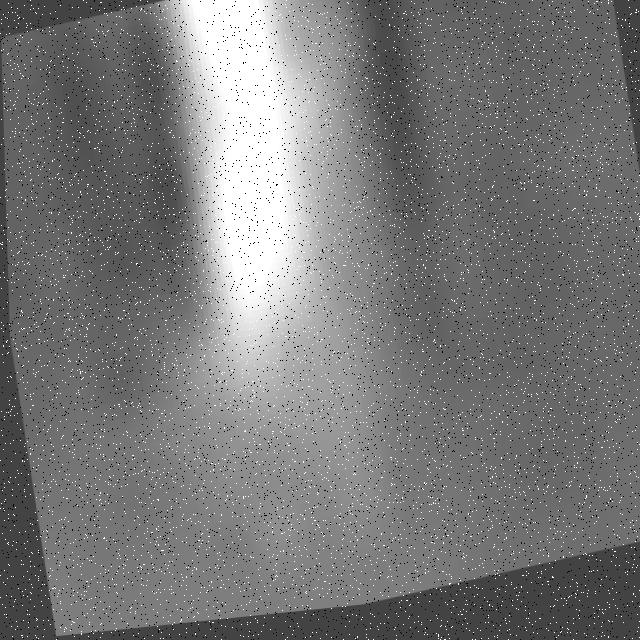person: (104, 1, 441, 570)
